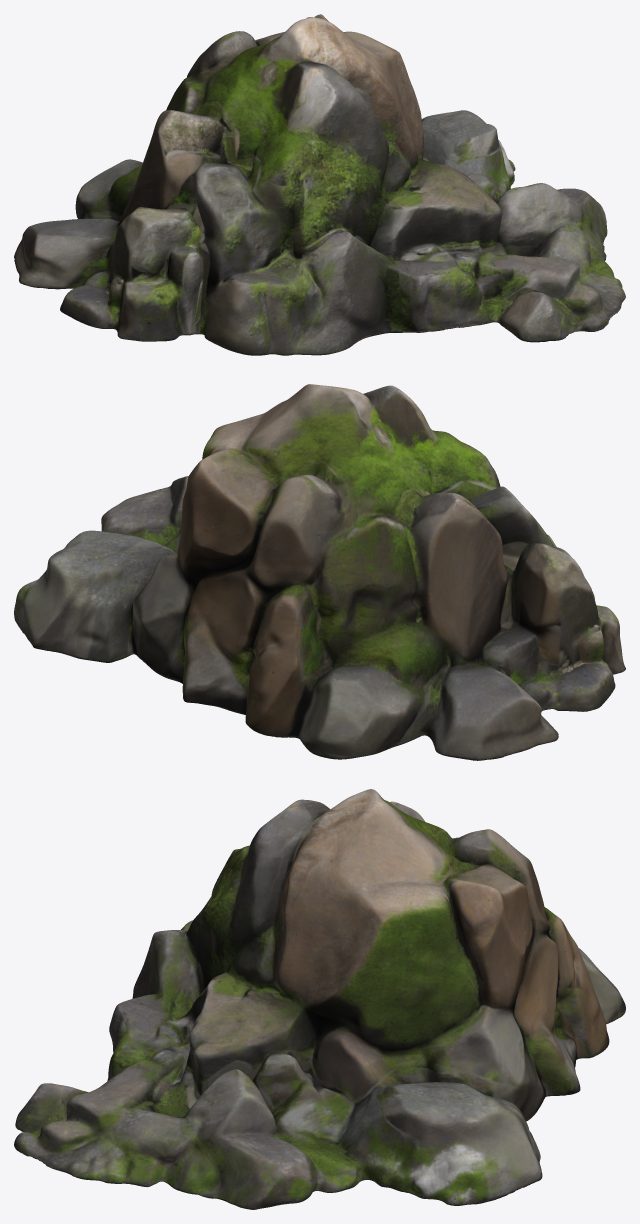
File: piedraAlta.fbx
3 views of the same model, one above another, from view 1: azimuth 30°, elevation 25°; view 2: azimuth 150°, elevation 25°; view 3: azimuth 270°, elevation 25° (orthographic). The views are drawn at different scales.
Visible parts, largest first — view 1: Mesh1.0; view 2: Mesh1.0; view 3: Mesh1.0.
Boxes of the visible parts, bbox=[...] form: Mesh1.0: bbox=[14, 14, 625, 355]; Mesh1.0: bbox=[14, 384, 625, 760]; Mesh1.0: bbox=[14, 789, 625, 1209].
Bounding box in the file's own units: 200 × 89.56 × 182.
Materials: 1 (1 with a texture image).
